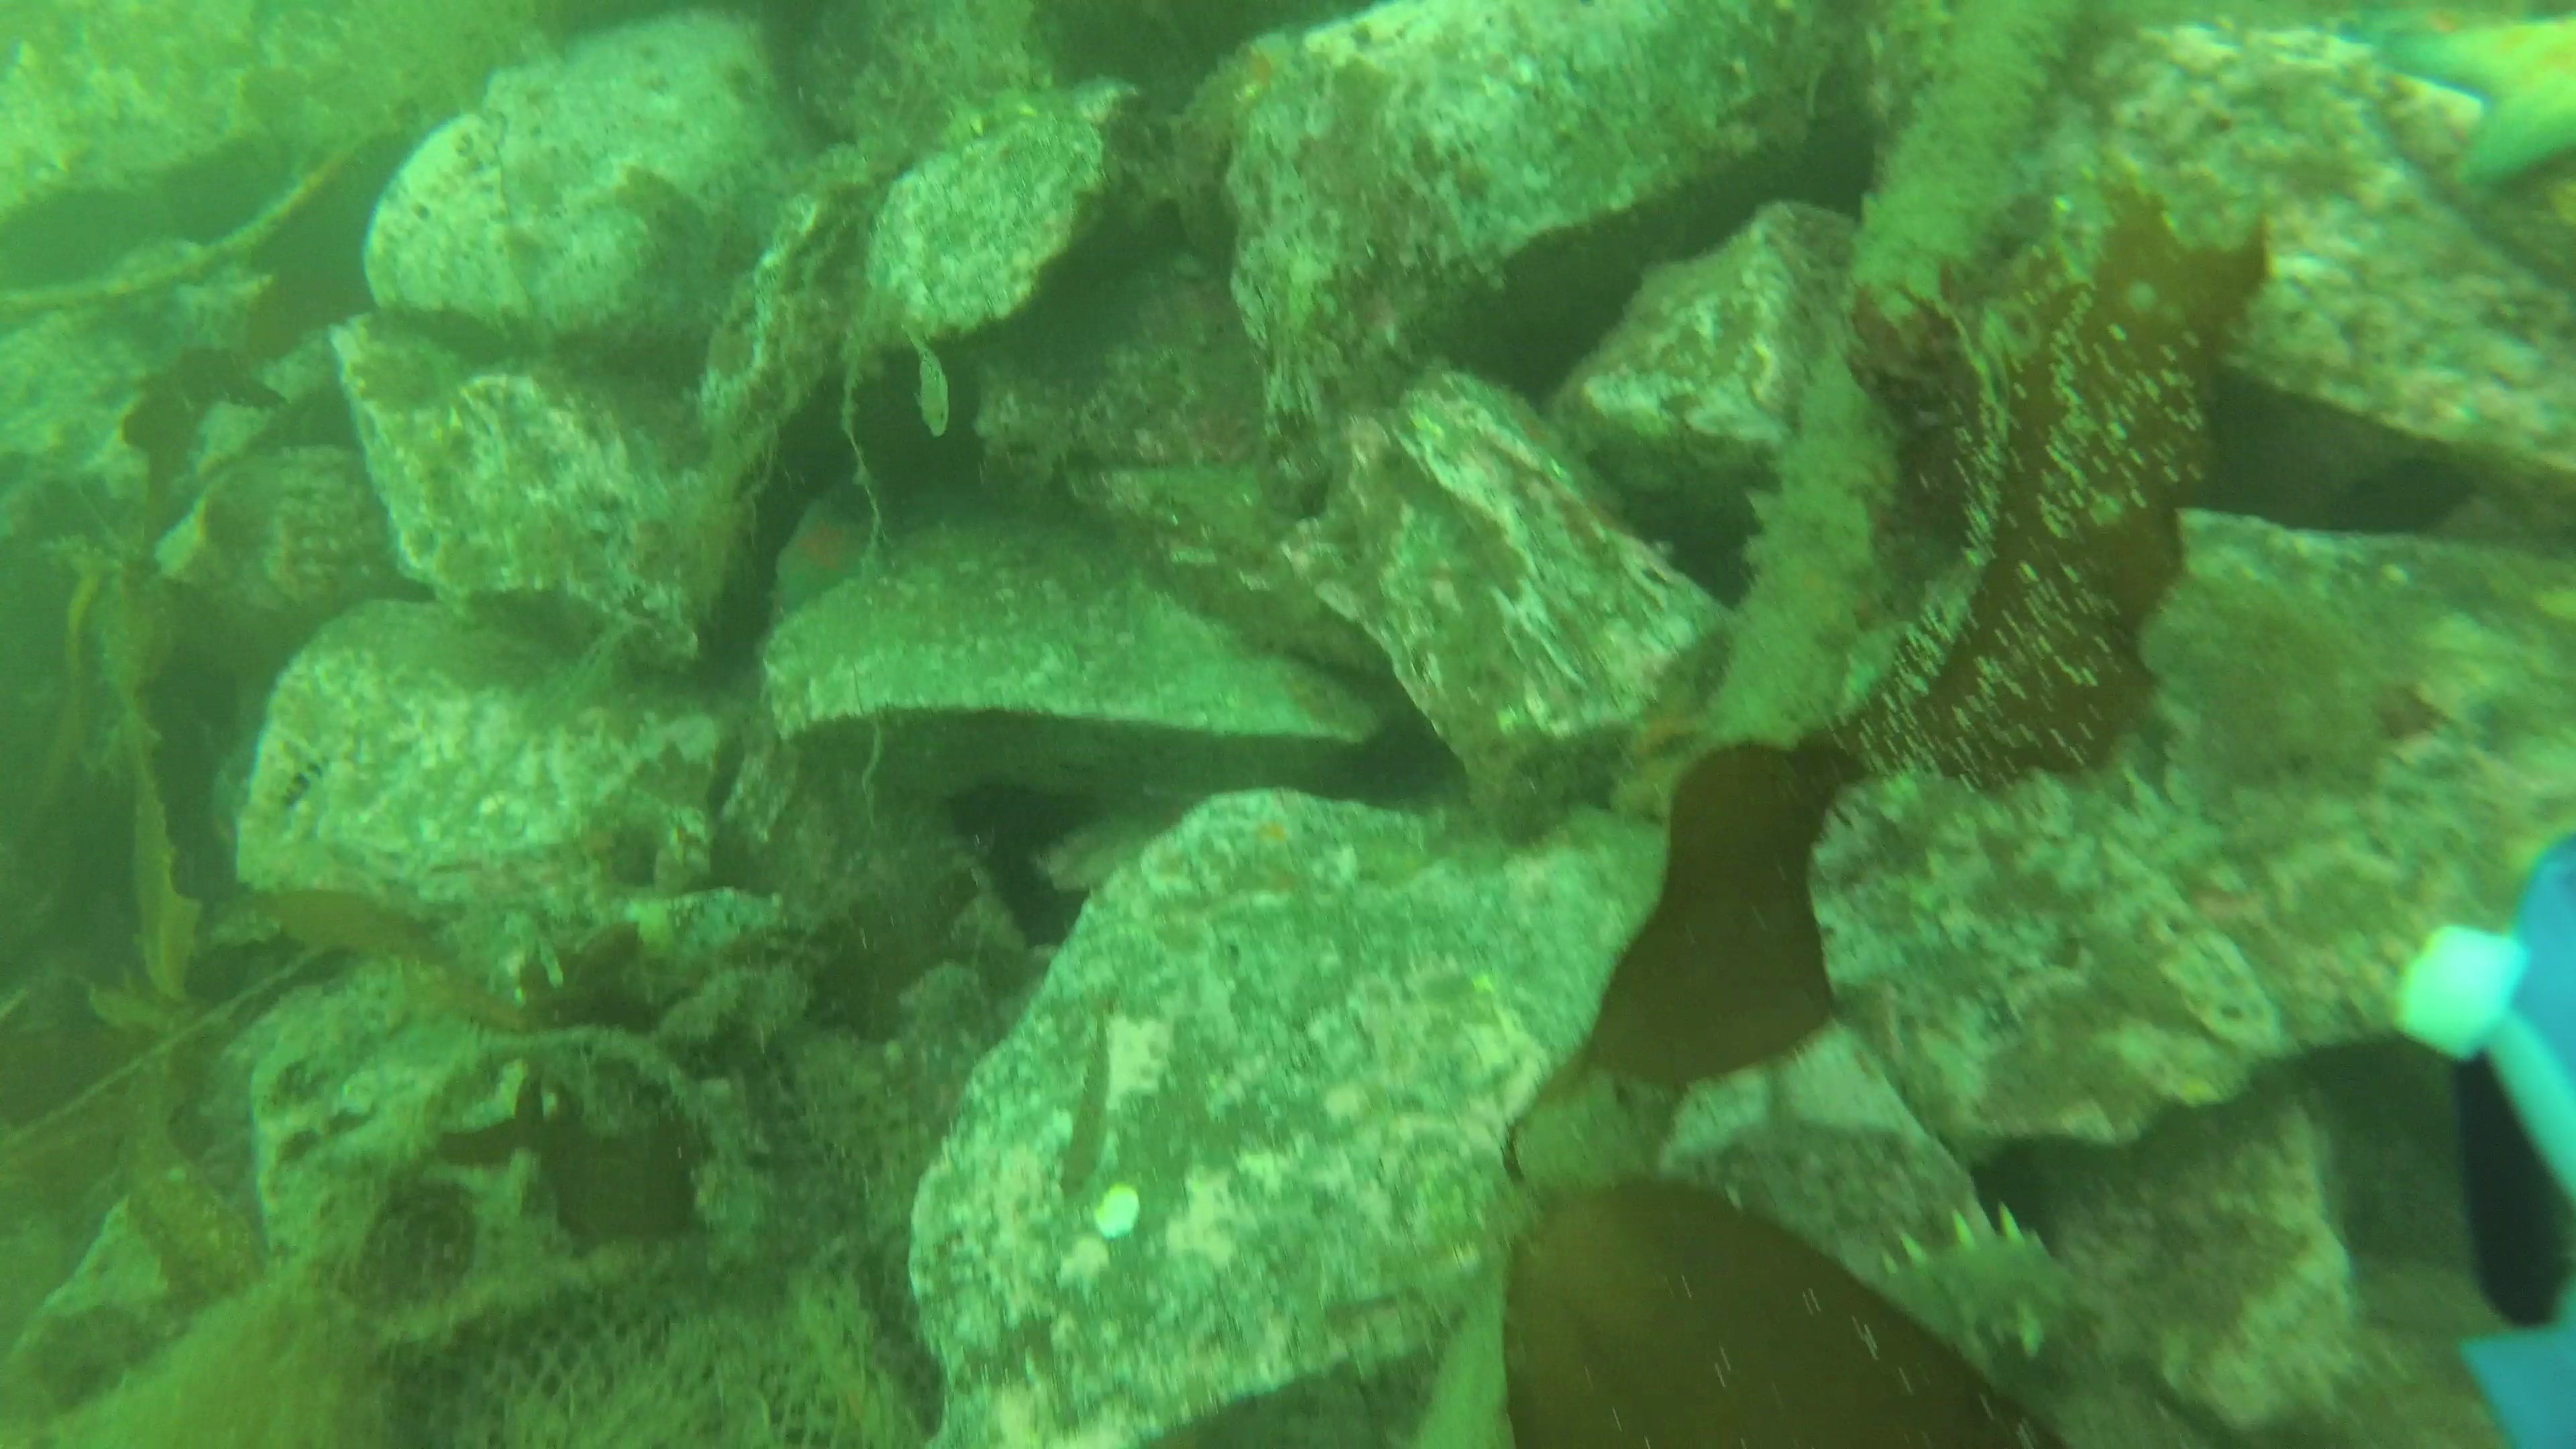holothurian: (1858, 1205, 2088, 1364)
starfish: (2369, 4, 2576, 202), (764, 460, 892, 625)
